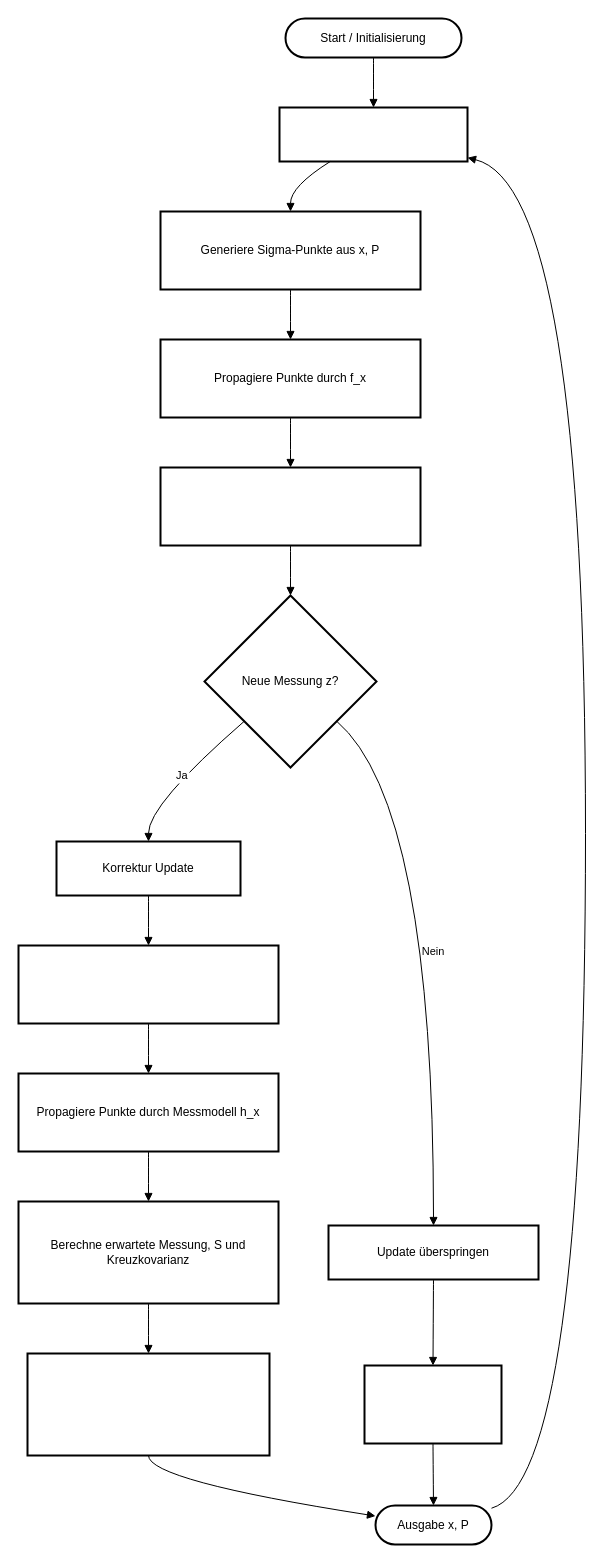
Some shapes in this 603 by 1562 pixel diagram are drawn without their labels. Here are the shapes that lost their labels. From the top down, the centre of each, then its label:
the point at 373,134: Prädiktion Predict
the point at 290,506: Berechne x_pred, P_pred aus gewichteter Summe
the point at 148,984: Generiere neue Sigma-Punkte aus x_pred, P_pred
the point at 148,1404: K = Kreuzkovarianz * S^-1 x = x_pred + K * y P = P_pred - K*S*K^T
the point at 432,1404: x = x_pred P = P_pred
